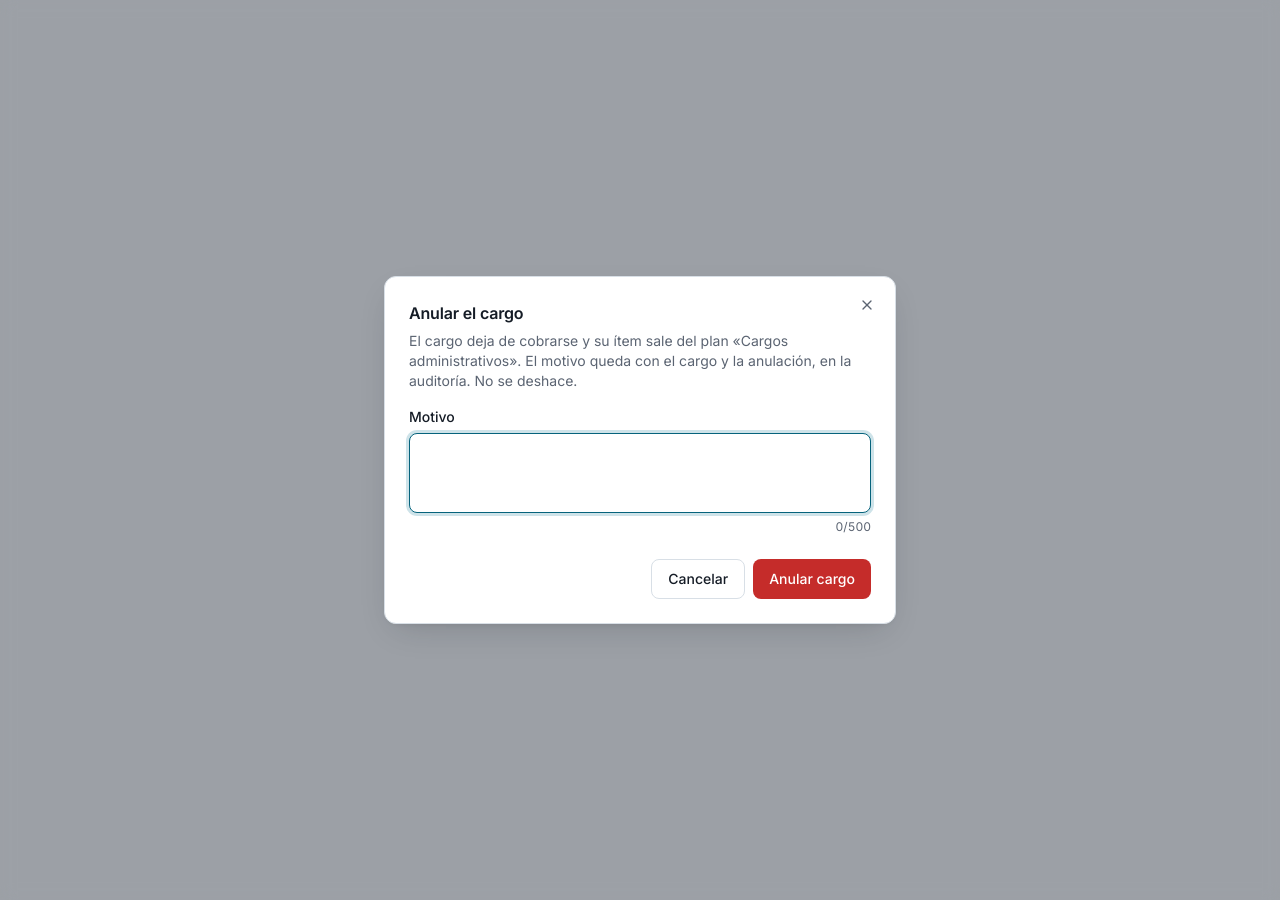
VoidCancellationFeeModal — 409 del servidor (DX-382) › un 5xx no enseña el texto del servidor: sale el error del modal
The image size is (1280, 900).
In the text box labelled "Motivo": (640, 473) left=409, top=433, right=871, bottom=513, type " Cargo por error "
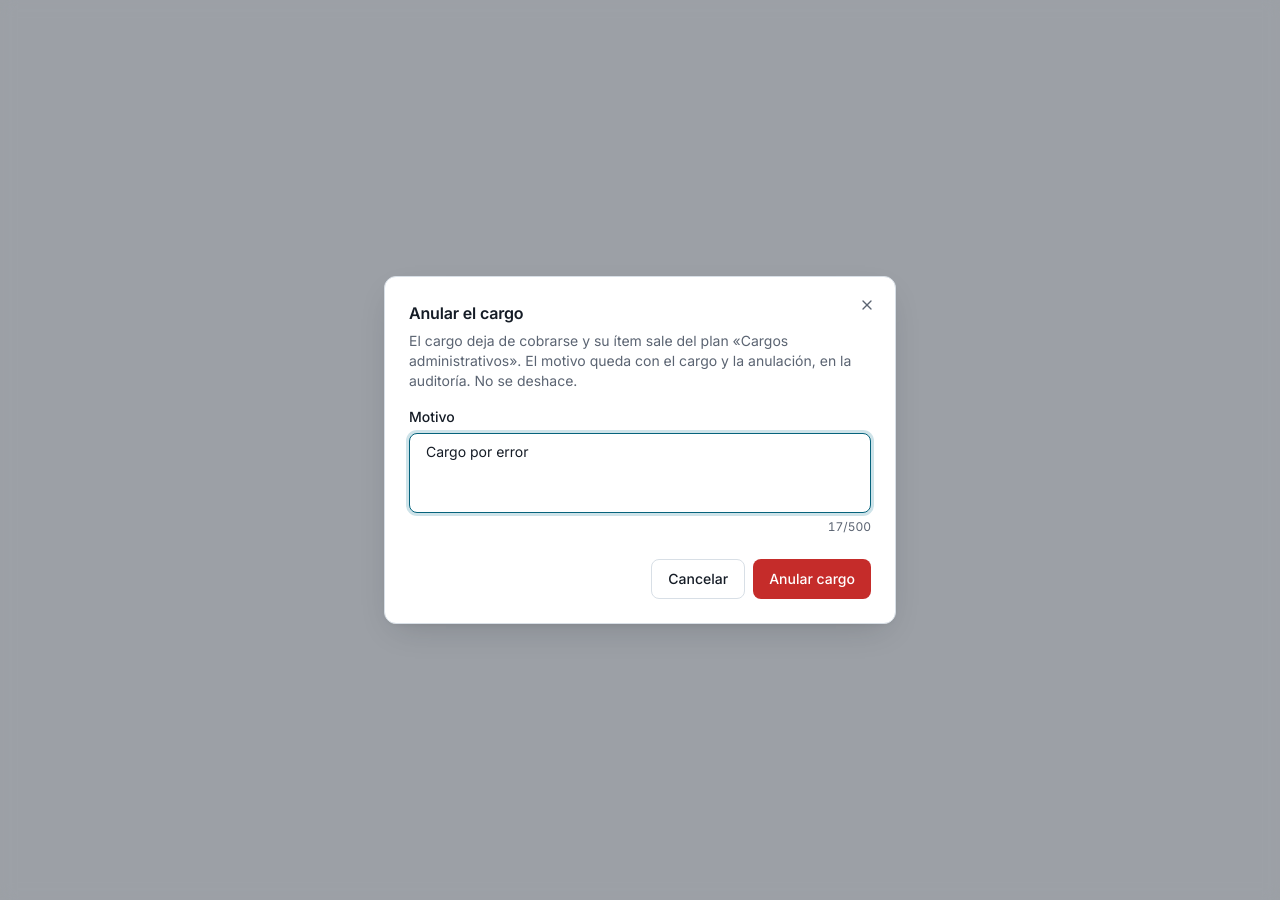
Click the button "Anular cargo": (812, 579) left=753, top=559, right=871, bottom=599
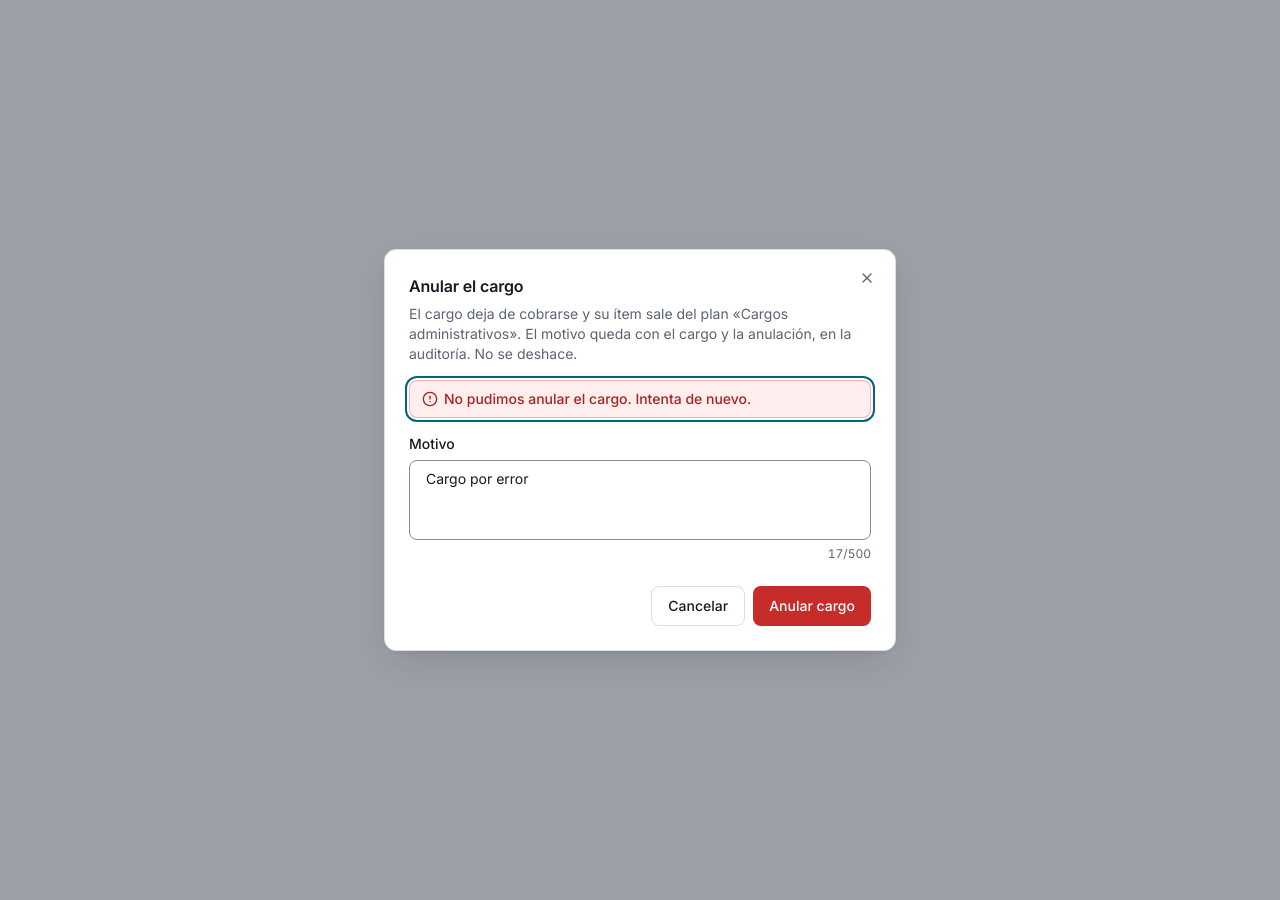
Expected: the button "Anular cargo" is enabled, left=753, top=586, right=871, bottom=626
Expected: the message reads "No pudimos anular el cargo. Intenta de nuevo.", left=444, top=390, right=751, bottom=407
